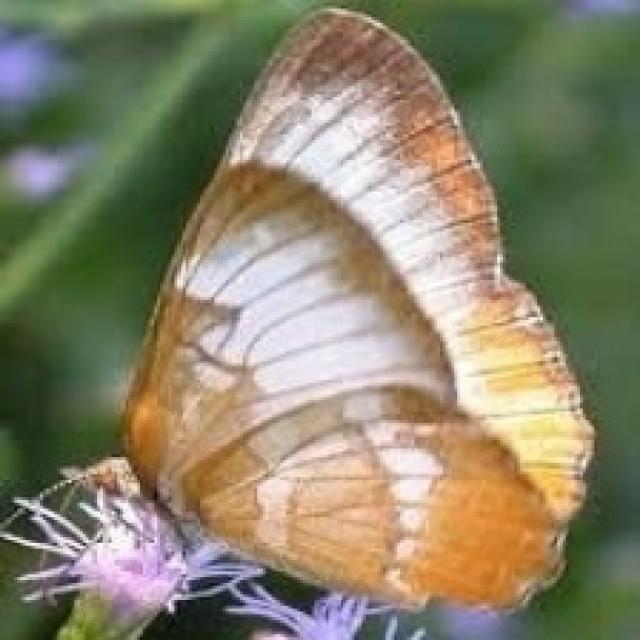butterfly: (0, 3, 597, 626)
